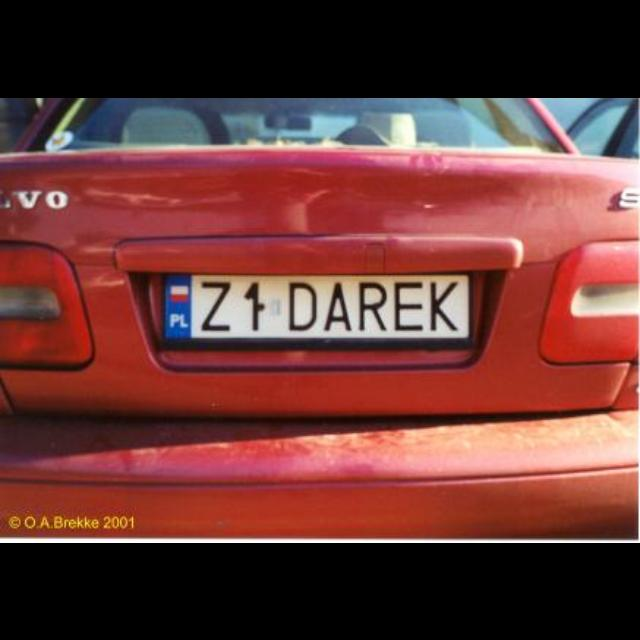pl_license_plate: (164, 273, 468, 337)
